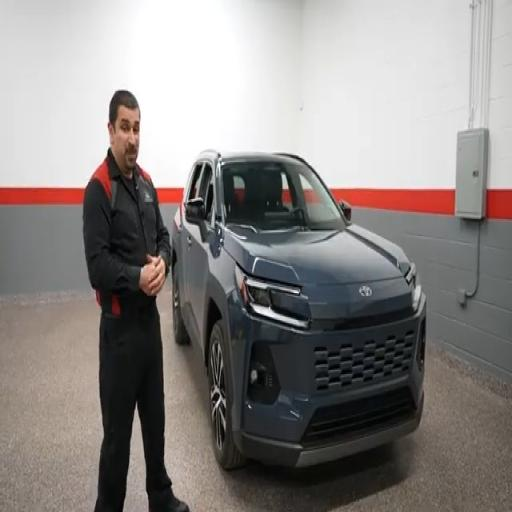bumper: (231, 295, 426, 466), (236, 394, 423, 467)
door: (188, 161, 214, 332), (178, 161, 203, 329)
emblem: (359, 286, 371, 297)
fog_light: (250, 369, 258, 383)
grille: (302, 387, 415, 446), (314, 330, 415, 391)
headlight: (236, 266, 308, 328), (405, 264, 421, 311)
hood: (224, 225, 409, 285)
side_mirror: (185, 198, 205, 224), (340, 200, 351, 221)
wheel: (208, 320, 244, 470), (172, 264, 188, 345)
window: (185, 163, 203, 201)
windshield: (222, 160, 345, 230)
